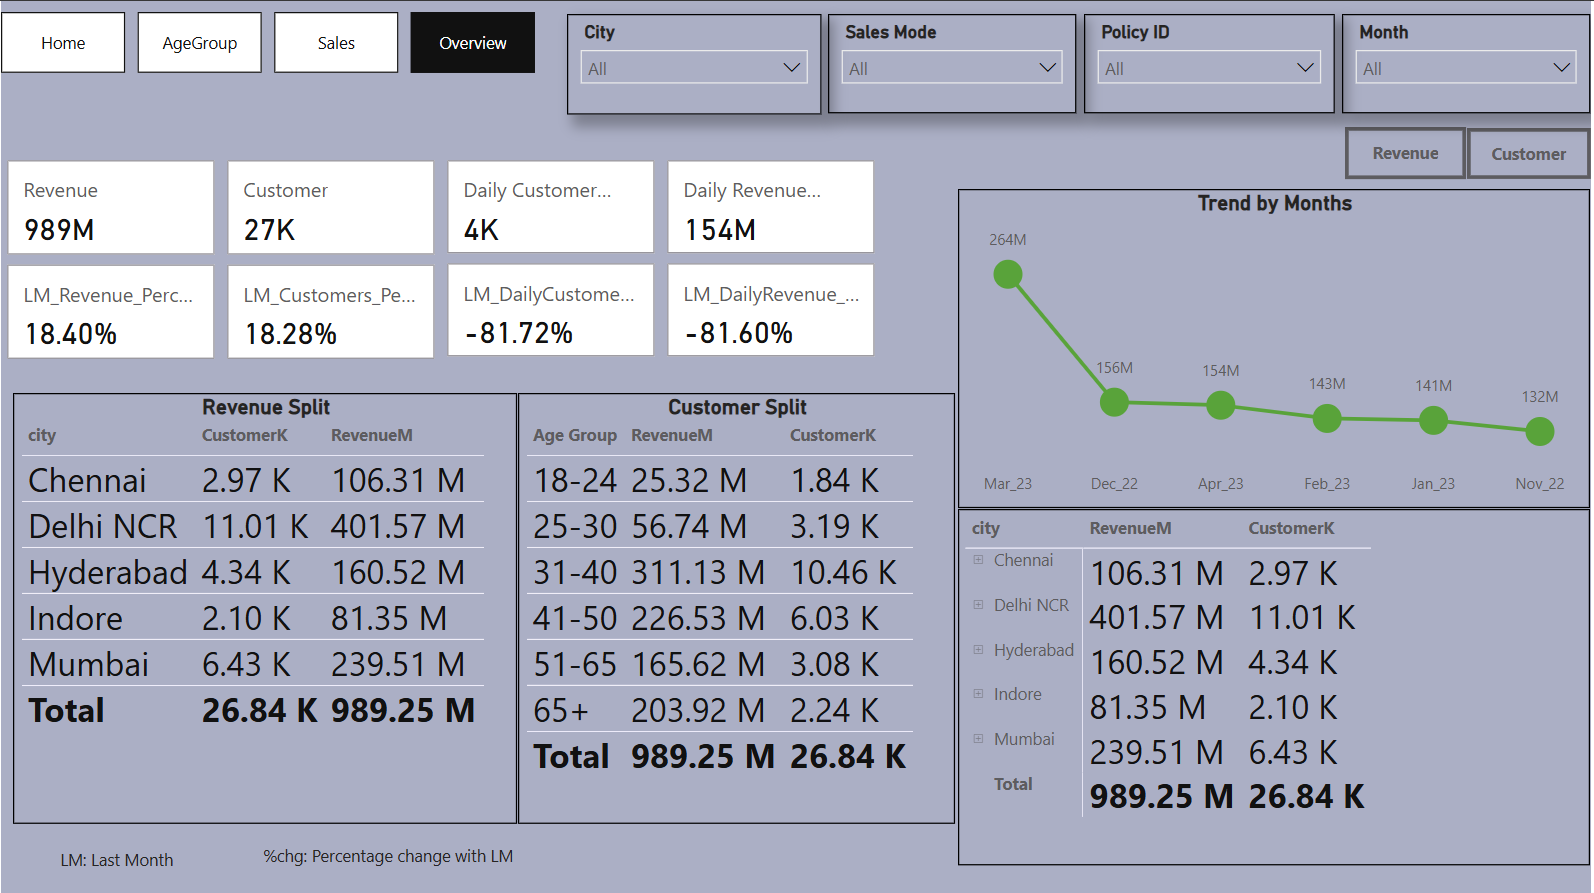

This screenshot's page, from the dashboard's own definition file:
{"tool":"powerbi","page":{"name":"Overview","canvas":[1280,720],"ordinal":3},"visuals":[{"type":"tableEx","title":"Revenue Split","fields":{"Values":["dim_customer.city","Calculation.CustomerK","Calculation.Revenue_Millions_Formatted"]},"box":[9.4,315.6,405.9,347.3],"z":0},{"type":"tableEx","title":"Customer Split","fields":{"Values":["dim_customer.Age Group","Calculation.RevenueM","Calculation.CustomerK"]},"box":[416.5,315.6,352,347.3],"z":1000},{"type":"lineChart","title":"Trend by Months","fields":{"Category":["dim_date.mmm_yy"],"Y":["Calculation.Revenue"]},"box":[771,151.4,509,256.6],"z":2000},{"type":"textbox","box":[42.8,677.1,149.4,29.3],"z":3000},{"type":"textbox","box":[206.2,674.4,249.1,45.1],"z":4000},{"type":"actionButton","box":[1082.2,101.6,97.5,42],"z":6000},{"type":"actionButton","box":[1180.3,102.1,99.7,41.1],"z":7000},{"type":"pivotTable","fields":{"Rows":["dim_customer.city","dim_customer.Age Group"],"Values":["Calculation.Revenue_Millions_Formatted","Calculation.CustomerK"]},"box":[770.8,409.5,509.2,287.4],"z":8000},{"type":"slicer","fields":{"Values":["dim_customer.city"]},"box":[455.6,10.5,204.5,81.3],"z":9000},{"type":"slicer","fields":{"Values":["fact_premiums.sales_mode"]},"box":[666,10.5,200.5,79.9],"z":10000},{"type":"slicer","fields":{"Values":["fact_premiums.policy_id"]},"box":[872.3,10.5,201.8,79.9],"z":11000},{"type":"slicer","fields":{"Values":["dim_date.mmm_yy"]},"box":[1080,10.5,200.5,79.9],"z":12000},{"type":"pageNavigator","box":[0,8.6,433.8,49.4],"z":13000},{"type":"cardVisual","fields":{"Data":["Calculation.Revenue","Calculation.LM_Revenue_Percent_Change"]},"box":[0,123.3,177.4,170.7],"z":14000},{"type":"cardVisual","fields":{"Data":["Calculation.Customer","Calculation.LM_Customers_Percent_Change"]},"box":[177.3,123.3,177.4,170.7],"z":15000},{"type":"cardVisual","fields":{"Data":["Calculation.Daily Customer Growth","Calculation.LM_DailyCustomer_Growth"]},"box":[354.5,123.3,177.2,169.7],"z":16000},{"type":"cardVisual","fields":{"Data":["Calculation.Daily Revenue Growth","Calculation.LM_DailyRevenue_Growth"]},"box":[531.5,123.3,177.2,169.7],"z":17000}]}

Visuals, with their boxes in screenshot pixels (x1, y1, x2, y2), scaled from the page's 1280x720 canvas onto the 1594x893 screenshot:
"Revenue Split" tableEx: (12,391,517,822)
"Customer Split" tableEx: (519,391,957,822)
"Trend by Months" lineChart: (960,188,1593,506)
textbox: (53,840,239,876)
textbox: (257,836,567,892)
actionButton: (1348,126,1469,178)
actionButton: (1470,127,1593,178)
pivotTable - dim_customer.city x dim_customer.Age Group: (960,508,1593,864)
slicer - dim_customer.city: (567,13,822,114)
slicer - fact_premiums.sales_mode: (829,13,1079,112)
slicer - fact_premiums.policy_id: (1086,13,1338,112)
slicer - dim_date.mmm_yy: (1345,13,1593,112)
pageNavigator: (0,11,540,72)
cardVisual - Calculation.Revenue x Calculation.LM_Revenue_Percent_Change: (0,153,221,365)
cardVisual - Calculation.Customer x Calculation.LM_Customers_Percent_Change: (221,153,442,365)
cardVisual - Calculation.Daily Customer Growth x Calculation.LM_DailyCustomer_Growth: (441,153,662,363)
cardVisual - Calculation.Daily Revenue Growth x Calculation.LM_DailyRevenue_Growth: (662,153,883,363)
